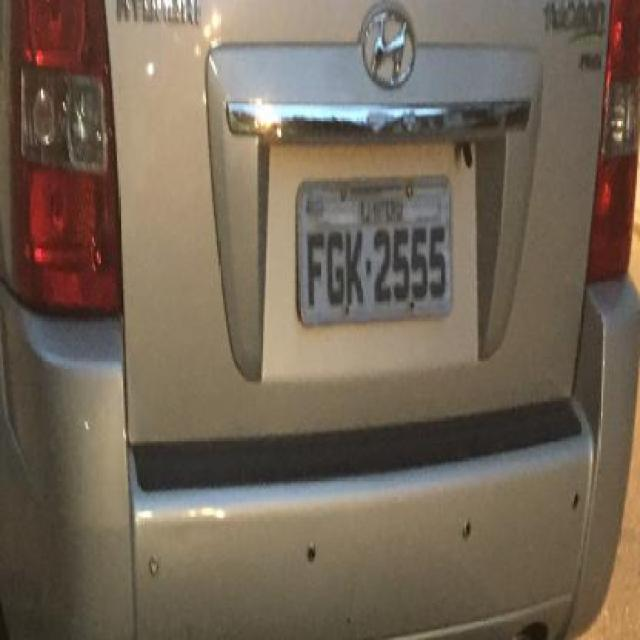old_plate: (289, 168, 461, 330)
